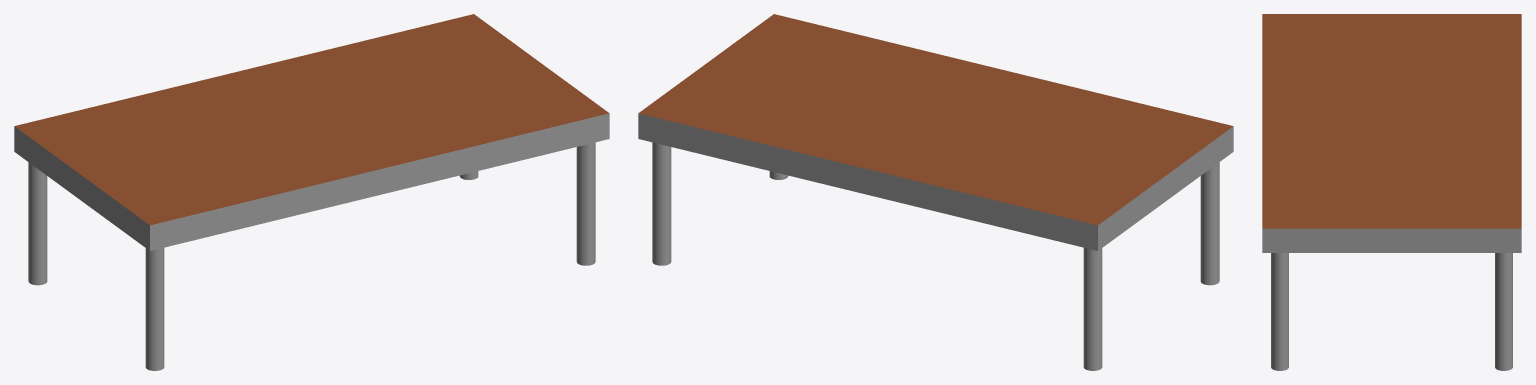
File: packingTable.fbx
The picture shows the model from 3 angles, left to right: view 1: azimuth 30°, elevation 25°; view 2: azimuth 150°, elevation 25°; view 3: azimuth 270°, elevation 25°; orthographic projection. The views are drawn at different scales.
Parts seen in each view (by area): view 1: Table; view 2: Table; view 3: Table.
Part boxes in pixels (x1=…): Table: x1=14, y1=14, x2=609, y2=370; Table: x1=638, y1=14, x2=1233, y2=370; Table: x1=1262, y1=14, x2=1521, y2=370.
Bounding box in the file's own units: 258 × 81.52 × 132.
